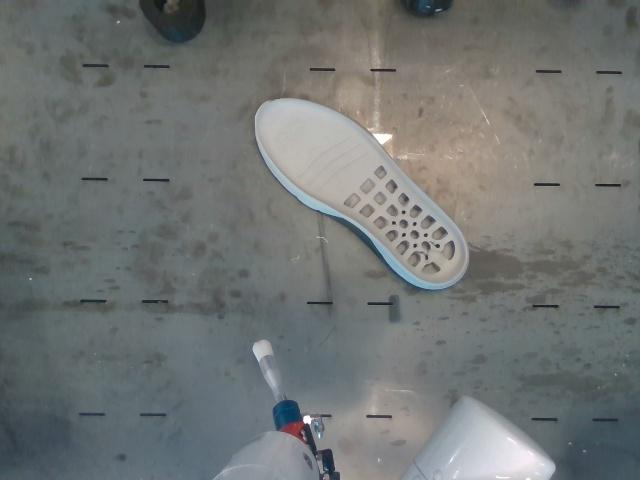shoes: (257, 99, 466, 284)
